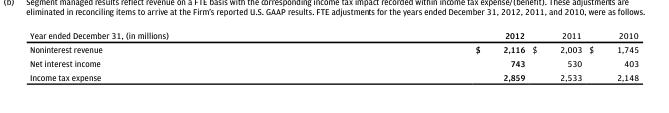table: (29, 29, 638, 81)
table column: (29, 29, 321, 81), (321, 29, 528, 81), (528, 29, 584, 81), (584, 29, 638, 81)
table column header: (29, 29, 638, 41)
table row: (29, 41, 638, 55), (29, 55, 638, 69), (29, 29, 638, 41), (29, 69, 638, 81)
